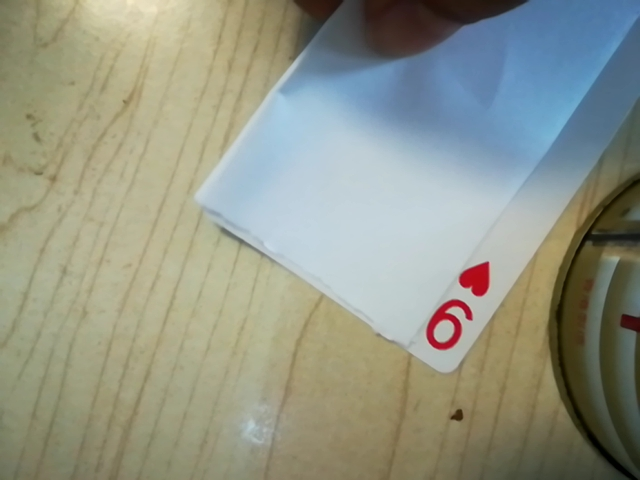hx 9: (412, 252, 496, 363)
